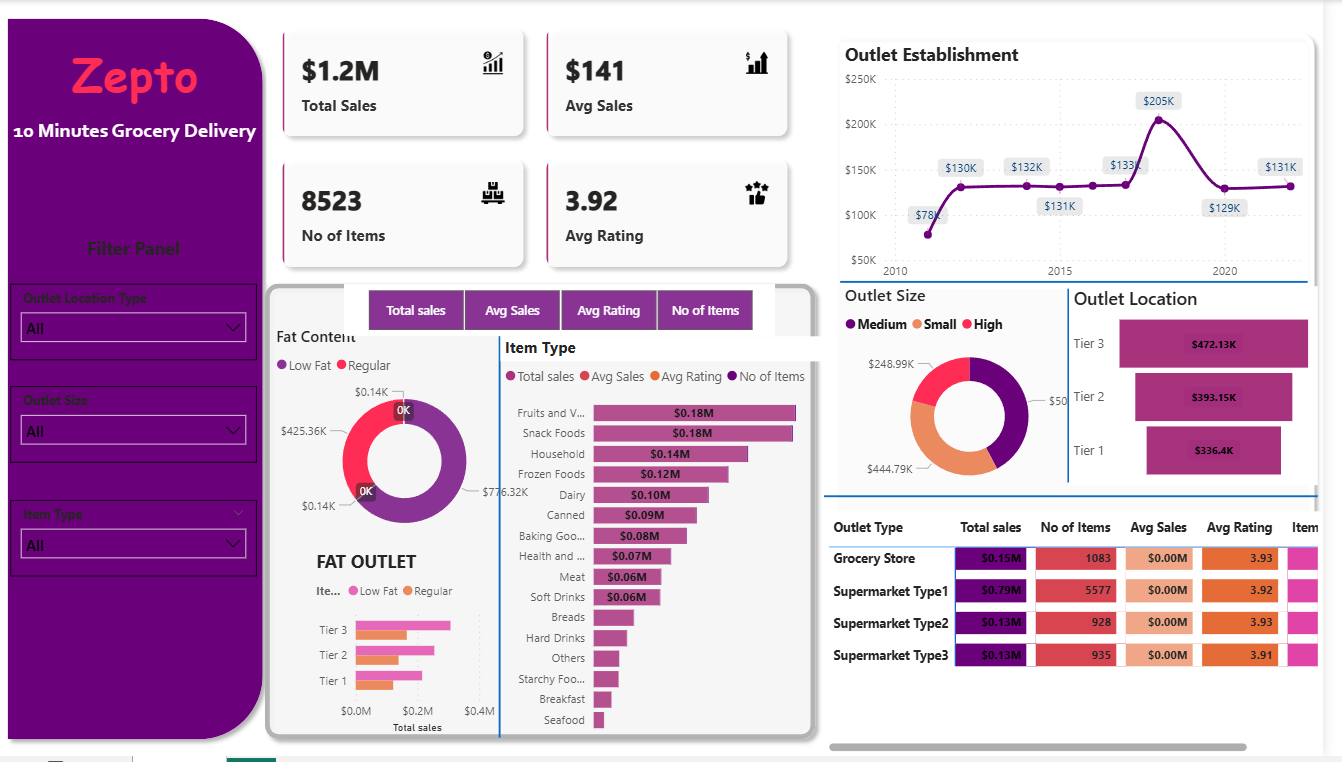

What the dashboard file says about the page in this screenshot:
{"tool":"powerbi","page":{"name":"Page 1","canvas":[1400,800],"ordinal":0},"visuals":[{"type":"shape","box":[0,10.5,288,780.4],"z":0},{"type":"textbox","box":[15,39,235.6,81],"z":1000},{"type":"textbox","box":[4.5,120.1,279.2,54],"z":2000},{"type":"cardVisual","fields":{"Data":["Zepto Grocery Data.Total sales","Zepto Grocery Data.Avg Sales","Zepto Grocery Data.No of Items","Zepto Grocery Data.Avg Rating"]},"box":[283,13.2,569.9,286.9],"z":3000},{"type":"shape","box":[272.4,290.9,600,499.8],"z":4000},{"type":"donutChart","title":"Fat Content","fields":{"Y":["Zepto Grocery Data.Total sales","Zepto Grocery Data.Avg Sales","Zepto Grocery Data.Avg Rating","Zepto Grocery Data.No of Items"],"Category":["Zepto Grocery Data.Item Fat Content"]},"box":[288.3,343.8,281.7,236.7],"z":5000},{"type":"slicer","fields":{"Values":["Metrics.Metrics"]},"box":[365,300.2,456.2,55.5],"z":6000},{"type":"clusteredBarChart","title":"FAT OUTLET","fields":{"Y":["Zepto Grocery Data.Total sales"],"Category":["Zepto Grocery Data.Outlet Location Type"],"Series":["Zepto Grocery Data.Item Fat Content"]},"box":[330.6,580.5,199.7,200],"z":7000},{"type":"shape","box":[518.3,355.7,22.5,424.5],"z":8000},{"type":"barChart","title":"Item Type","fields":{"Y":["Zepto Grocery Data.Total sales","Zepto Grocery Data.Avg Sales","Zepto Grocery Data.Avg Rating","Zepto Grocery Data.No of Items"],"Category":["Zepto Grocery Data.Item Type"]},"box":[530.2,355.7,342.5,428.4],"z":9000},{"type":"shape","box":[872.7,26.4,527.6,764.3],"z":10000},{"type":"lineChart","title":" Outlet Establishment","fields":{"Y":["Zepto Grocery Data.Total sales"],"Category":["Zepto Grocery Data.Outlet Establishment Year"]},"box":[889.9,45,494.5,260.5],"z":11000},{"type":"shape","box":[889.9,290.9,494.5,14.5],"z":12000},{"type":"donutChart","title":"Outlet Size","fields":{"Y":["Zepto Grocery Data.Total sales"],"Category":["Zepto Grocery Data.Outlet Size"]},"box":[889.9,300.2,273.7,228.8],"z":13000},{"type":"shape","box":[1125.3,305.5,11.9,205],"z":14000},{"type":"funnel","title":" Outlet Location","fields":{"Y":["Zepto Grocery Data.Total sales"],"Category":["Zepto Grocery Data.Outlet Location Type"]},"box":[1131.9,302.8,263.1,210],"z":15000},{"type":"shape","box":[872.7,521,522.3,7.9],"z":16000},{"type":"pivotTable","fields":{"Rows":["Zepto Grocery Data.Outlet Type"],"Values":["Zepto Grocery Data.Total sales","Zepto Grocery Data.No of Items","Zepto Grocery Data.Avg Sales","Zepto Grocery Data.Avg Rating","Sum(Zepto Grocery Data.Item Visibility)"]},"box":[872.7,540.8,527.6,259.2],"z":16001},{"type":"slicer","fields":{"Values":["Zepto Grocery Data.Outlet Location Type"]},"box":[11.9,300.2,260.5,80.7],"z":16002},{"type":"slicer","fields":{"Values":["Zepto Grocery Data.Outlet Size"]},"box":[11.9,408.6,260.5,80.7],"z":16003},{"type":"slicer","fields":{"Values":["Zepto Grocery Data.Item Type"]},"box":[11.9,528.9,260.5,80.7],"z":16004},{"type":"textbox","box":[19.8,244.6,244.6,46.3],"z":16005}]}

Visuals, with their boxes in screenshot pixels (x1, y1, x2, y2), scaled from the page's 1400x800 canvas onto the 1342x762 screenshot:
shape: pyautogui.locateOnScreen(0, 10, 276, 753)
textbox: pyautogui.locateOnScreen(14, 37, 240, 114)
textbox: pyautogui.locateOnScreen(4, 114, 272, 166)
cardVisual - Zepto Grocery Data.Total sales x Zepto Grocery Data.Avg Sales: pyautogui.locateOnScreen(271, 13, 818, 286)
shape: pyautogui.locateOnScreen(261, 277, 836, 753)
"Fat Content" donutChart: pyautogui.locateOnScreen(276, 327, 546, 553)
slicer - Metrics.Metrics: pyautogui.locateOnScreen(350, 286, 787, 339)
"FAT OUTLET" clusteredBarChart: pyautogui.locateOnScreen(317, 553, 508, 743)
shape: pyautogui.locateOnScreen(497, 339, 518, 743)
"Item Type" barChart: pyautogui.locateOnScreen(508, 339, 837, 747)
shape: pyautogui.locateOnScreen(837, 25, 1341, 753)
" Outlet Establishment" lineChart: pyautogui.locateOnScreen(853, 43, 1327, 291)
shape: pyautogui.locateOnScreen(853, 277, 1327, 291)
"Outlet Size" donutChart: pyautogui.locateOnScreen(853, 286, 1115, 504)
shape: pyautogui.locateOnScreen(1079, 291, 1090, 486)
" Outlet Location" funnel: pyautogui.locateOnScreen(1085, 288, 1337, 488)
shape: pyautogui.locateOnScreen(837, 496, 1337, 504)
pivotTable - Zepto Grocery Data.Outlet Type x Zepto Grocery Data.Total sales: pyautogui.locateOnScreen(837, 515, 1341, 761)
slicer - Zepto Grocery Data.Outlet Location Type: pyautogui.locateOnScreen(11, 286, 261, 363)
slicer - Zepto Grocery Data.Outlet Size: pyautogui.locateOnScreen(11, 389, 261, 466)
slicer - Zepto Grocery Data.Item Type: pyautogui.locateOnScreen(11, 504, 261, 581)
textbox: pyautogui.locateOnScreen(19, 233, 253, 277)
